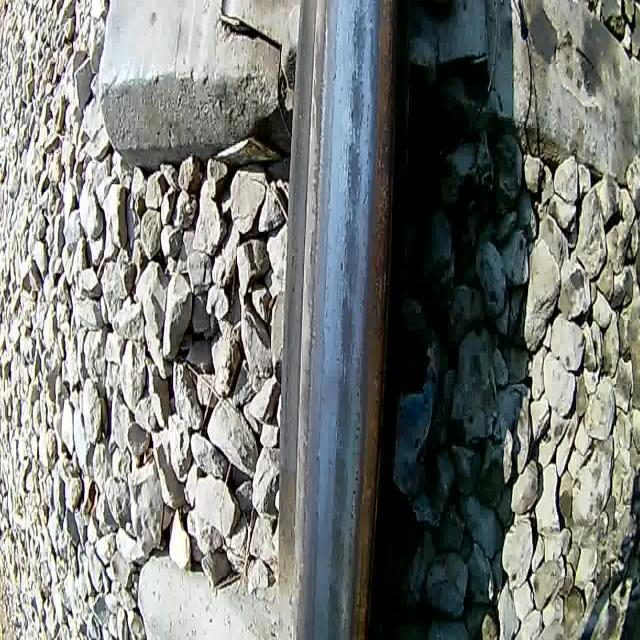Cracks: (341, 157, 356, 263), (350, 48, 369, 92), (350, 4, 359, 59), (339, 344, 349, 388), (348, 88, 356, 140), (358, 106, 366, 140)
Squats: (332, 365, 356, 451), (345, 0, 374, 70), (322, 574, 351, 640), (340, 210, 361, 298), (336, 292, 358, 374), (345, 66, 368, 140), (343, 138, 366, 212), (323, 512, 349, 576), (329, 446, 350, 519)
